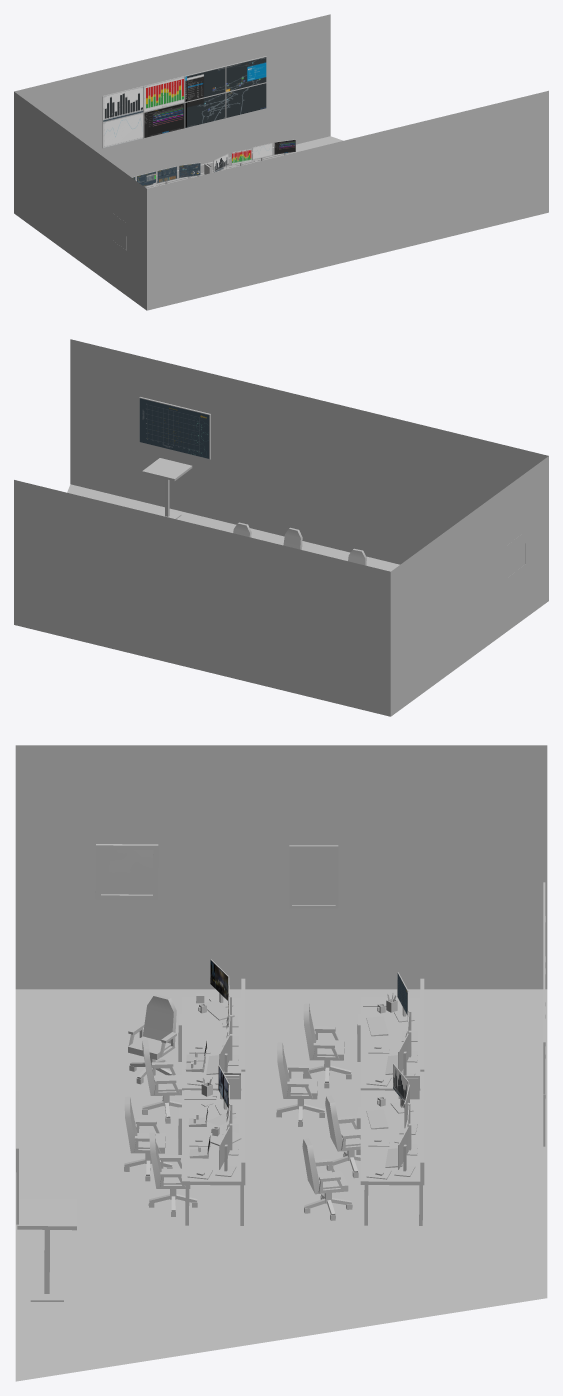
Rendered from Control_room_city_4k_v.fbx.
The picture shows the model from 3 angles, top to bottom: view 1: azimuth 30°, elevation 25°; view 2: azimuth 150°, elevation 25°; view 3: azimuth 270°, elevation 25°; orthographic projection. The views are drawn at different scales.
Parts seen in each view (by area): view 1: Control room City; view 2: Control room City; view 3: Control room City.
Boxes of the visible parts, box(x1,y1,x2,y2) form: Control room City: box(14, 14, 548, 310); Control room City: box(14, 339, 548, 716); Control room City: box(15, 745, 547, 1381).
Bounding box in the file's own units: 15.74 × 4.6 × 9.01.
